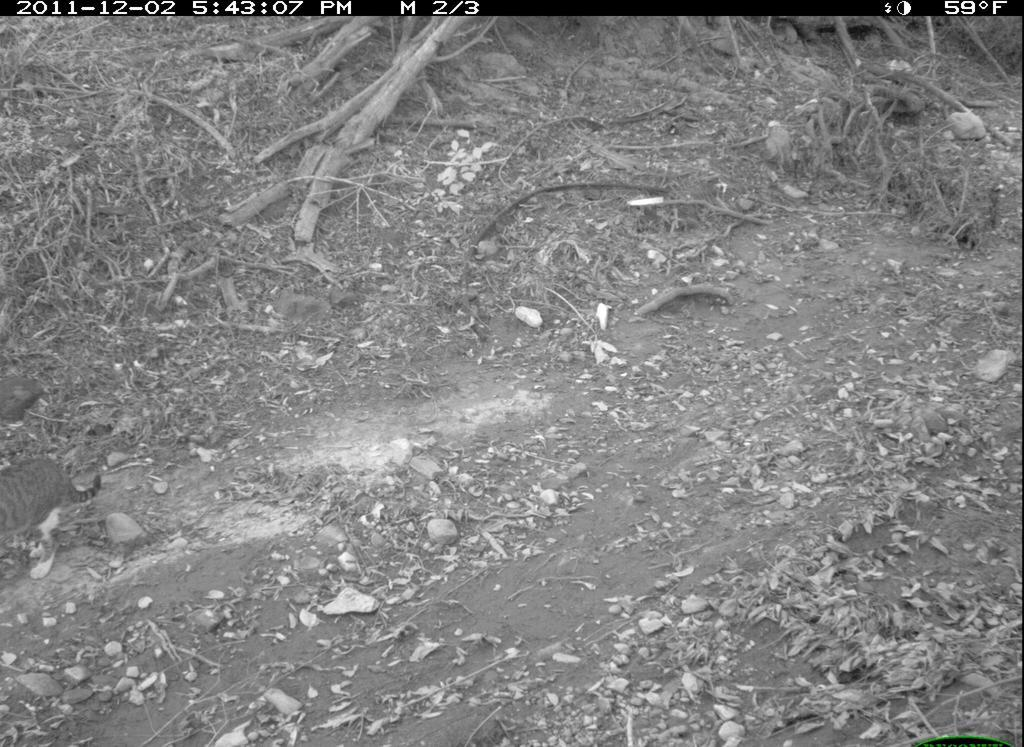cat: (2, 450, 109, 584)
